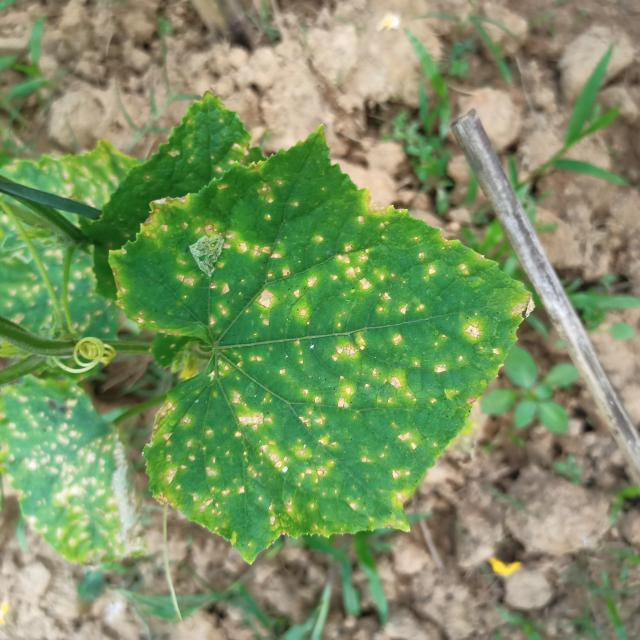disease_cucumber: (128, 170, 509, 537)
